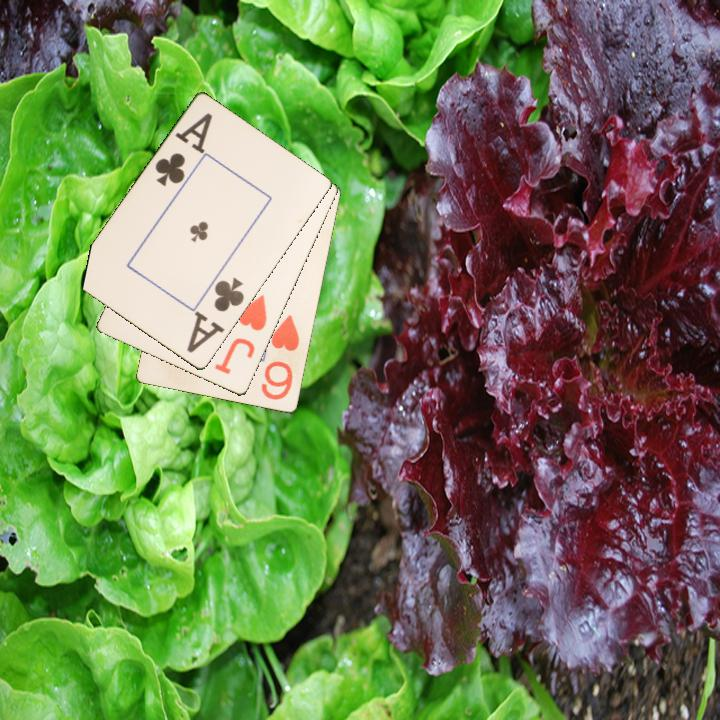6h: (258, 311, 303, 403)
Ac: (183, 274, 247, 357), (151, 109, 216, 190)
Jh: (211, 291, 270, 378)
